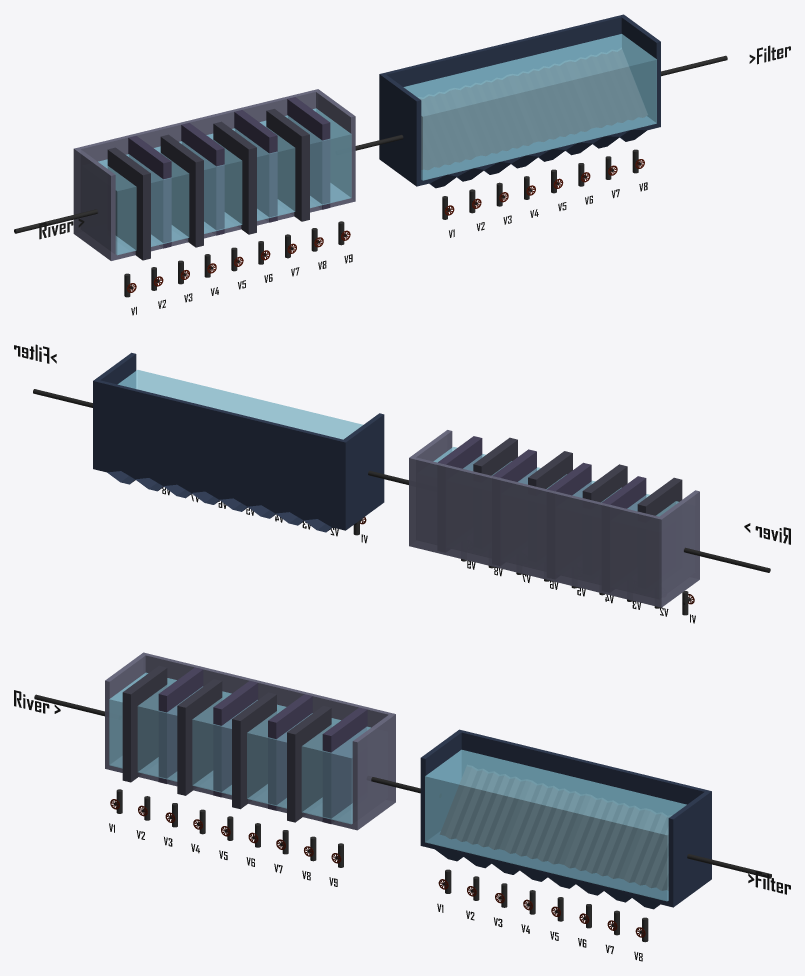
The model's file is clarifier.glb.
3 renders of one model, top to bottom at view 1: azimuth 30°, elevation 25°; view 2: azimuth 150°, elevation 25°; view 3: azimuth 330°, elevation 25°, orthographic. The views are drawn at different scales.
Parts seen in each view (by area): view 1: Cube004, Cube003, Plane, Cube005, Cube001, Cube, Cube002, Cylinder001, Cylinder003_1, Cylinder003_3; view 2: Cube003, Cube, Cube004, Cube001, Cube002, Cube005; view 3: Cube004, Cube003, Plane, Cube005, Cube001, Cube, Cube002, Cylinder001, Cylinder003_1, Cylinder003_3.
Part boxes in pixels (x1,y1,x2,y2): Cube004: [403, 34, 656, 180]; Cube003: [379, 14, 660, 188]; Plane: [418, 48, 647, 170]; Cube005: [98, 108, 351, 255]; Cube001: [107, 109, 309, 260]; Cube: [73, 89, 355, 260]; Cube002: [128, 97, 330, 248]; Cylinder001: [124, 221, 350, 297]; Cylinder003_1: [442, 149, 638, 219]; Cylinder003_3: [444, 159, 644, 215]; Cube003: [93, 352, 384, 532]; Cube: [409, 430, 699, 607]; Cube004: [117, 370, 363, 439]; Cube001: [473, 437, 682, 516]; Cube002: [438, 436, 646, 510]; Cube005: [433, 447, 678, 516]; Cube004: [425, 749, 686, 901]; Cube003: [420, 729, 711, 909]; Plane: [440, 765, 671, 890]; Cube005: [109, 672, 370, 824]; Cube001: [122, 665, 331, 822]; Cube: [105, 652, 395, 830]; Cube002: [158, 667, 367, 823]; Cylinder001: [110, 789, 343, 867]; Cylinder003_1: [445, 869, 648, 942]; Cylinder003_3: [438, 879, 645, 937].
Bounding box in the file's own units: 36.98 × 6.42 × 3.86.
